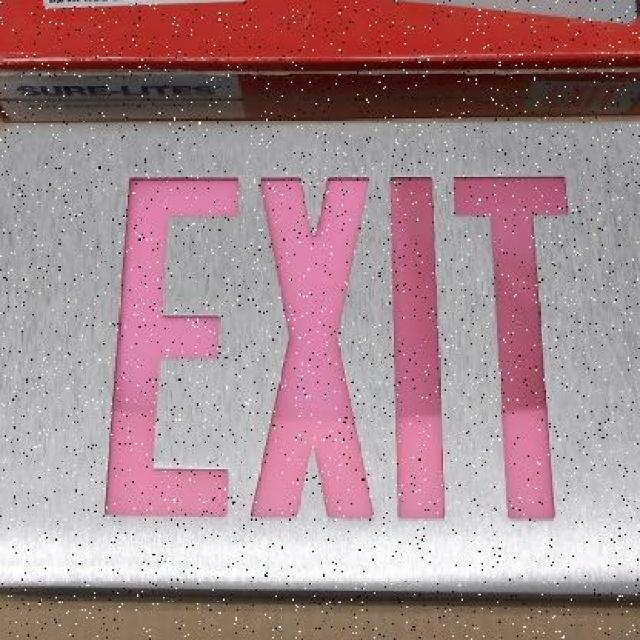emergency_exit: (2, 4, 638, 604), (2, 107, 638, 596), (102, 169, 571, 526)
